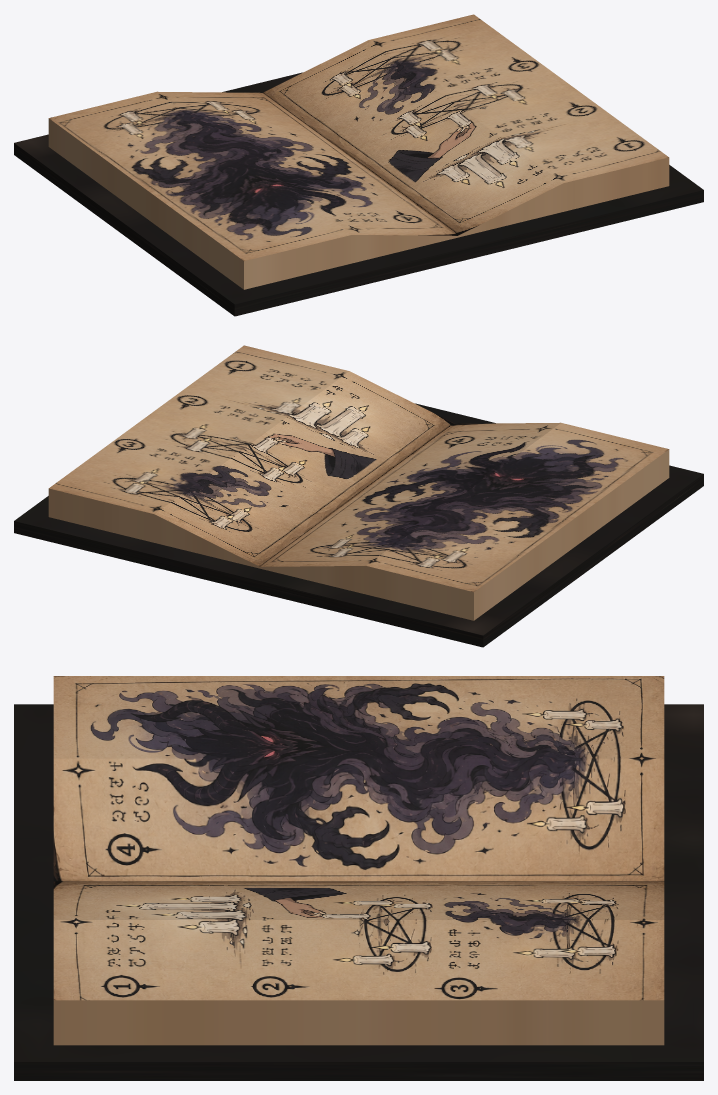
The model's file is Libro.fbx.
The picture shows the model from 3 angles, top to bottom: view 1: azimuth 30°, elevation 25°; view 2: azimuth 150°, elevation 25°; view 3: azimuth 270°, elevation 25°; orthographic projection. The views are drawn at different scales.
Visible parts, largest first — view 1: Cube.010; view 2: Cube.010; view 3: Cube.010.
Boxes of the visible parts, x1,y1,x2,y2 form: Cube.010: [14, 14, 703, 316]; Cube.010: [14, 345, 703, 647]; Cube.010: [14, 676, 703, 1080].
Bounding box in the file's own units: 10.76 × 0.8928 × 8.77.
Materials: 1 (1 with a texture image).
